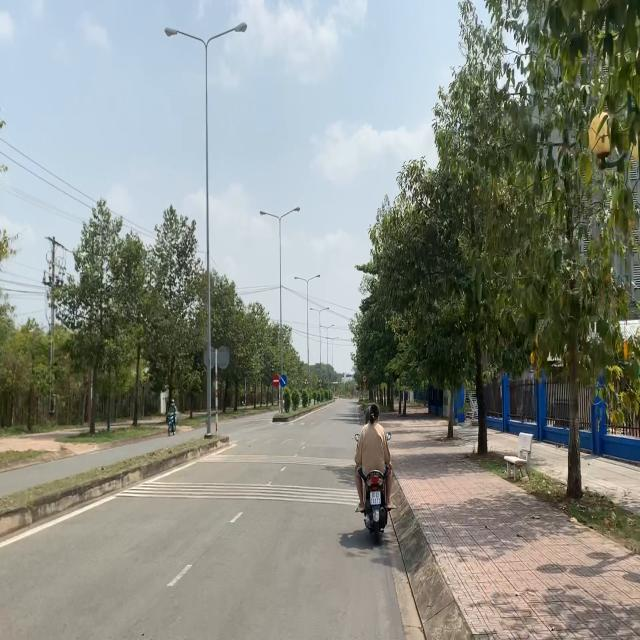Cam nguoc chieu: (272, 374, 280, 388)
Hieu lenh: (280, 374, 287, 388)
